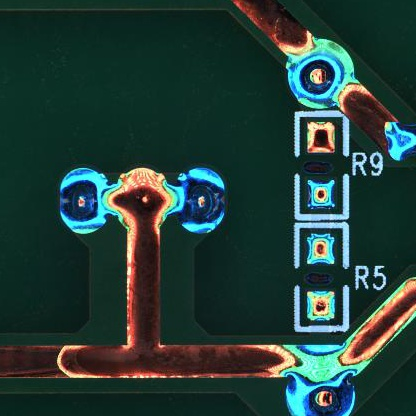spot: (286, 39, 356, 109), (283, 363, 358, 416), (59, 169, 111, 233), (179, 168, 226, 236)
